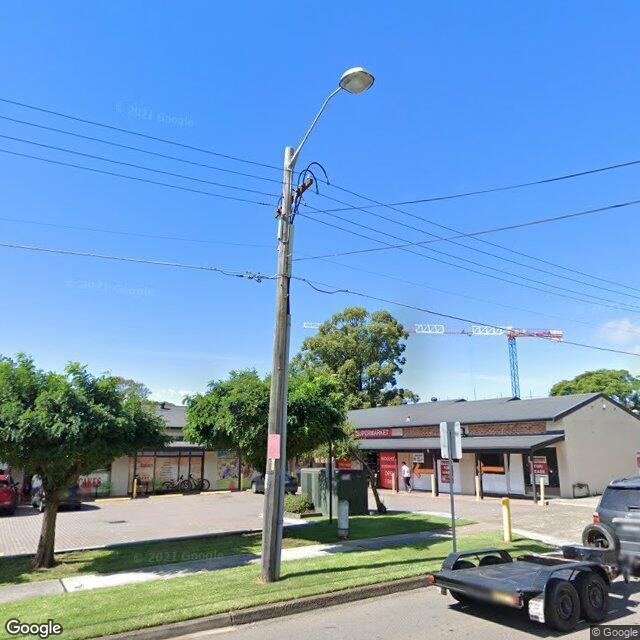crossarm: (274, 177, 313, 218)
streetlight: (288, 66, 375, 172)
timber-pole: (260, 148, 294, 582)
